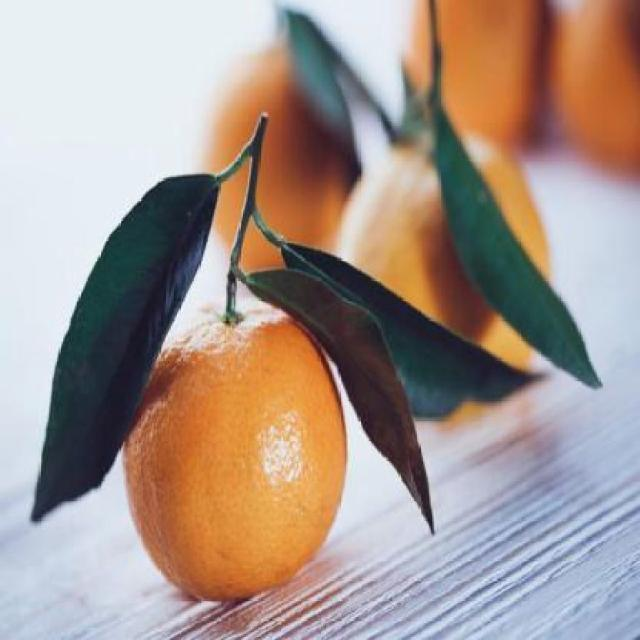Jeruk Sudah Matang: (121, 306, 346, 602), (329, 132, 554, 422), (198, 40, 376, 274), (406, 0, 552, 160), (552, 1, 640, 184)
